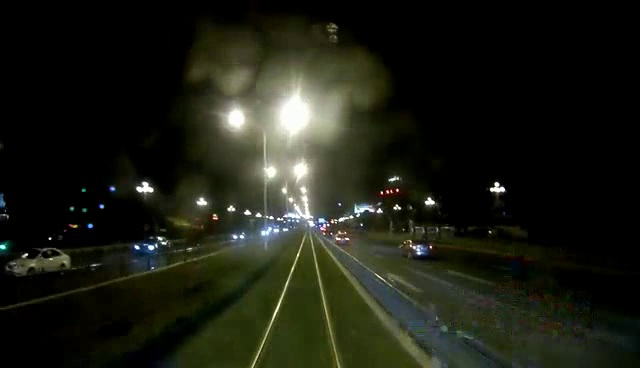car: (3, 245, 78, 275), (135, 234, 180, 254), (401, 238, 435, 260)
